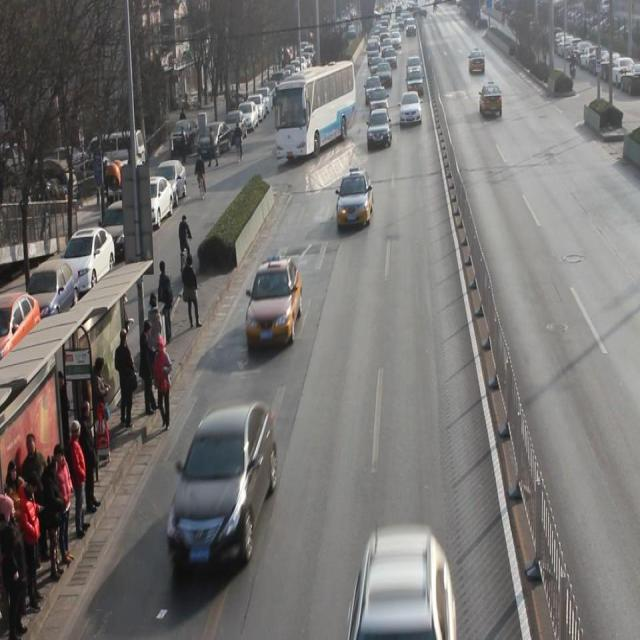car: (166, 402, 279, 568), (350, 525, 459, 640), (247, 260, 304, 347), (337, 170, 375, 232), (367, 109, 394, 149), (479, 83, 504, 118), (400, 91, 422, 128), (369, 88, 390, 120)
van: (274, 64, 356, 160)
